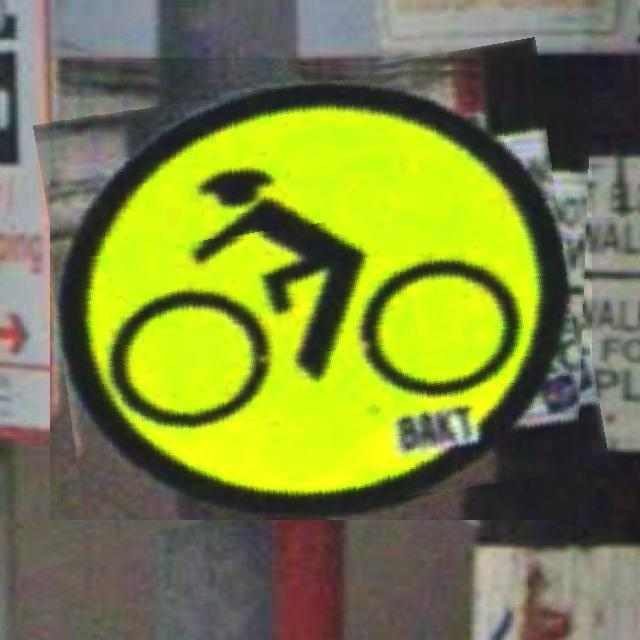bike lane: (50, 58, 592, 520)
